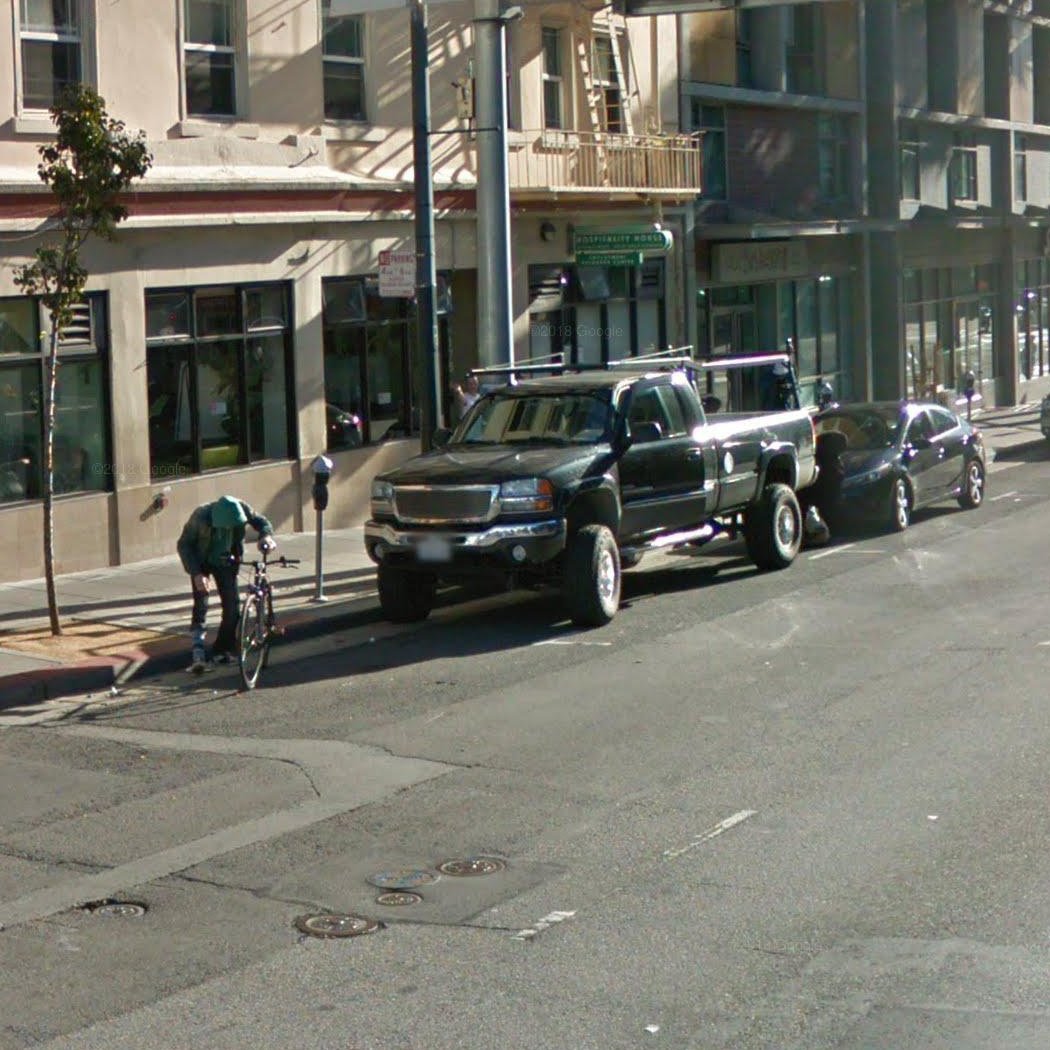No Parking: (374, 252, 417, 298)
